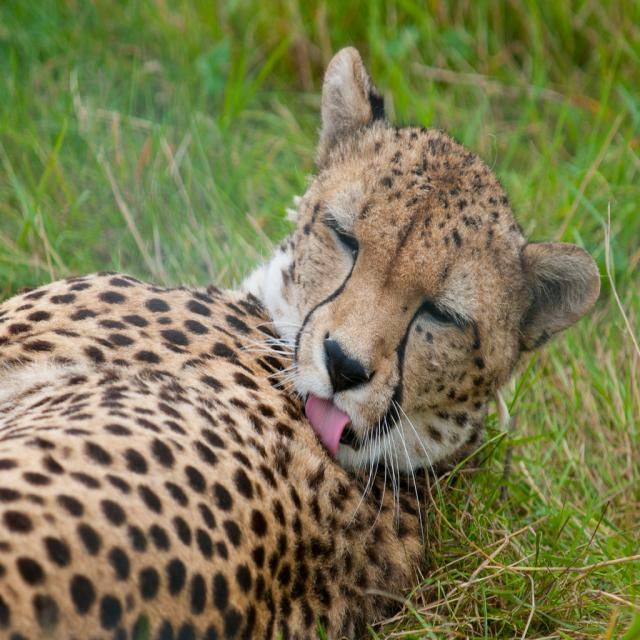Cheetah: (0, 45, 602, 640)
